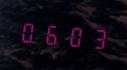six: (40, 18, 61, 49)
three: (84, 21, 105, 53)
zero: (62, 19, 83, 51), (18, 16, 39, 47)
